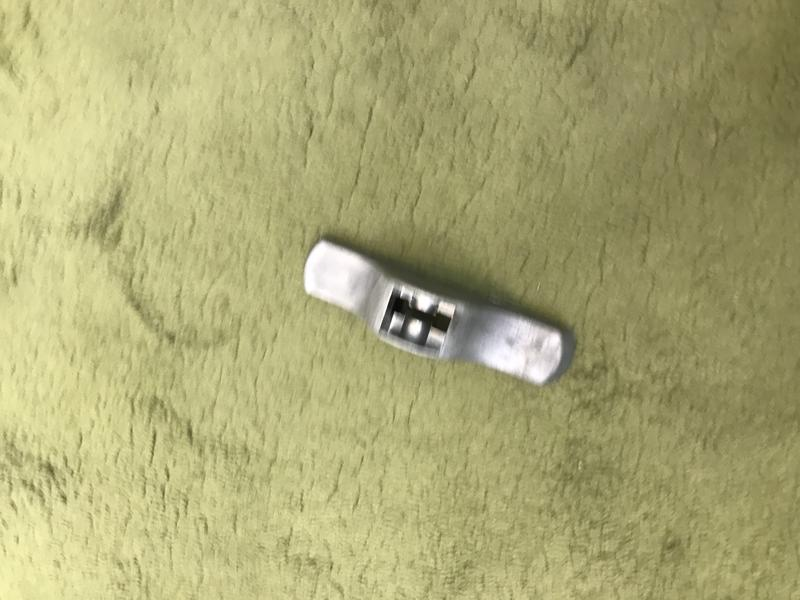zapchast: (276, 213, 589, 418)
